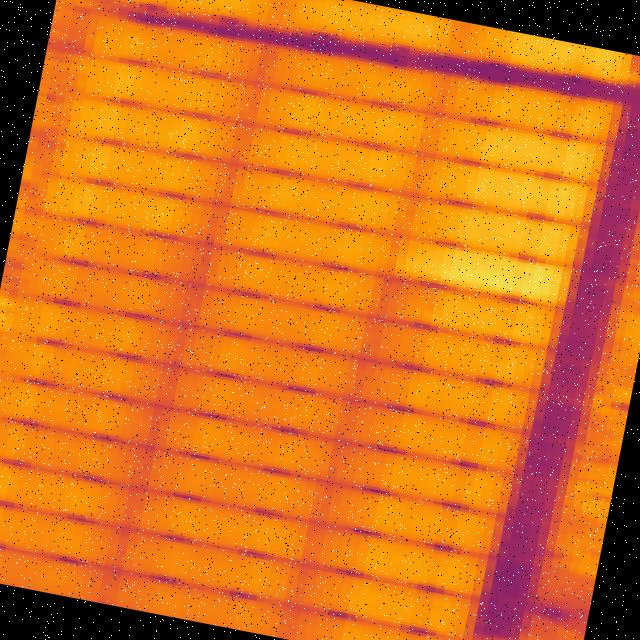Hotspot: (396, 240, 568, 302)
